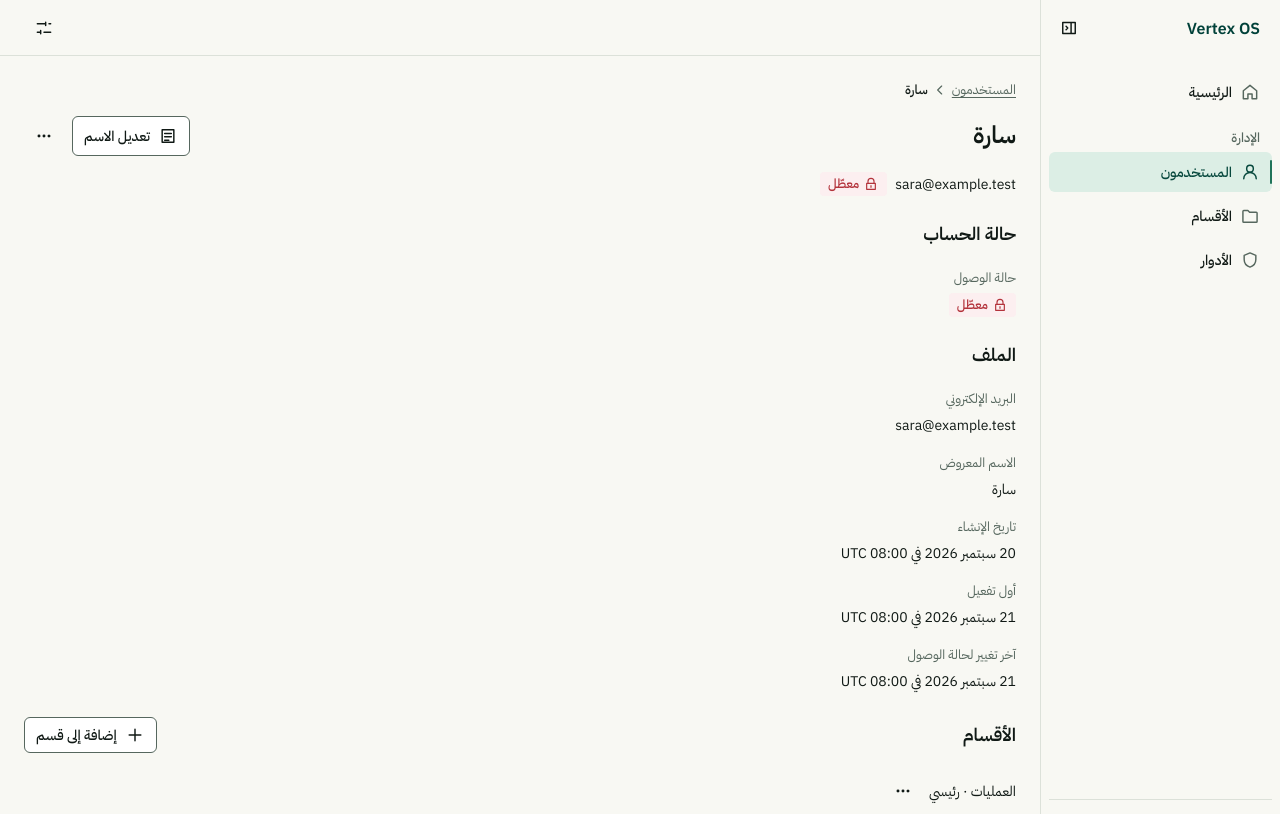
the user detail › states the reactivation target the backend derived (INVITED)
Click the button named "إجراءات المستخدم" at (44, 136), box [24,116,64,156]
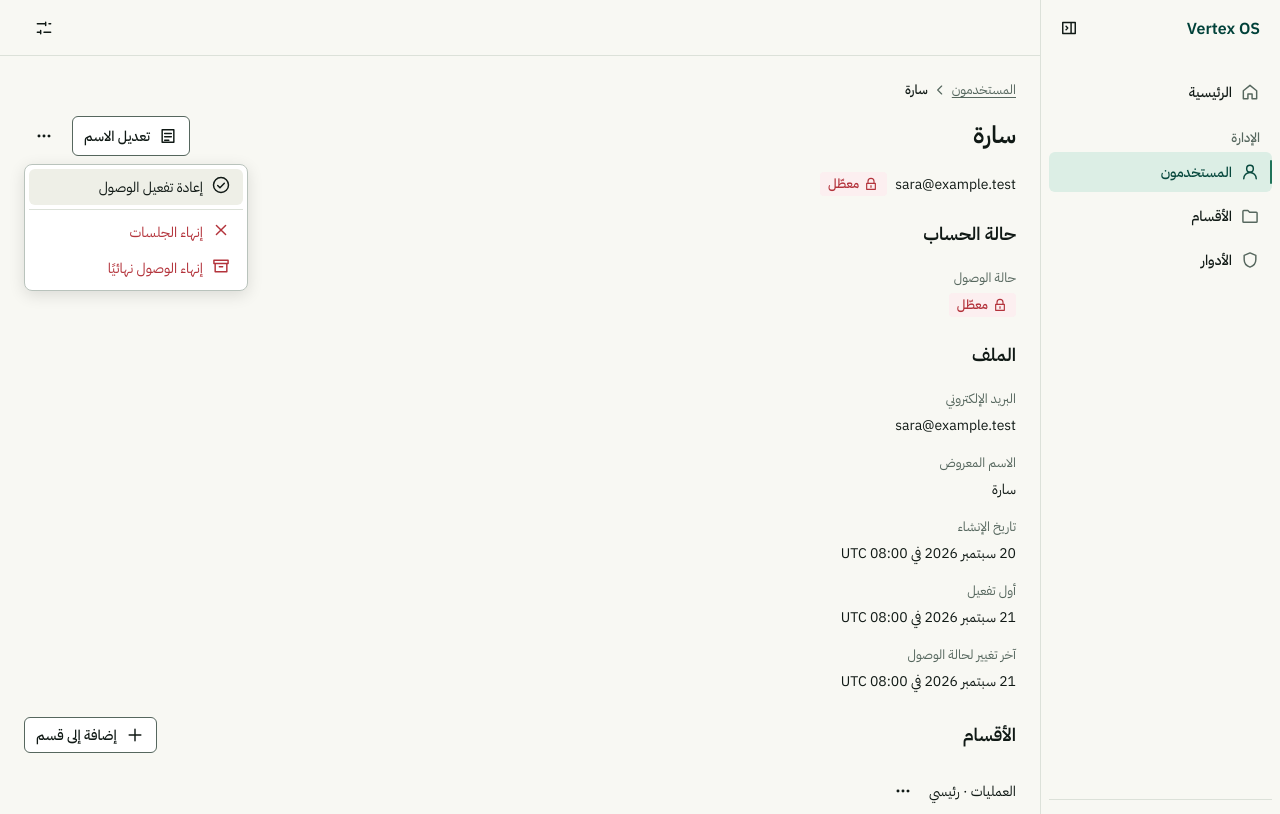
Click the menu item "إعادة تفعيل الوصول" at (136, 187), box [29,169,243,205]
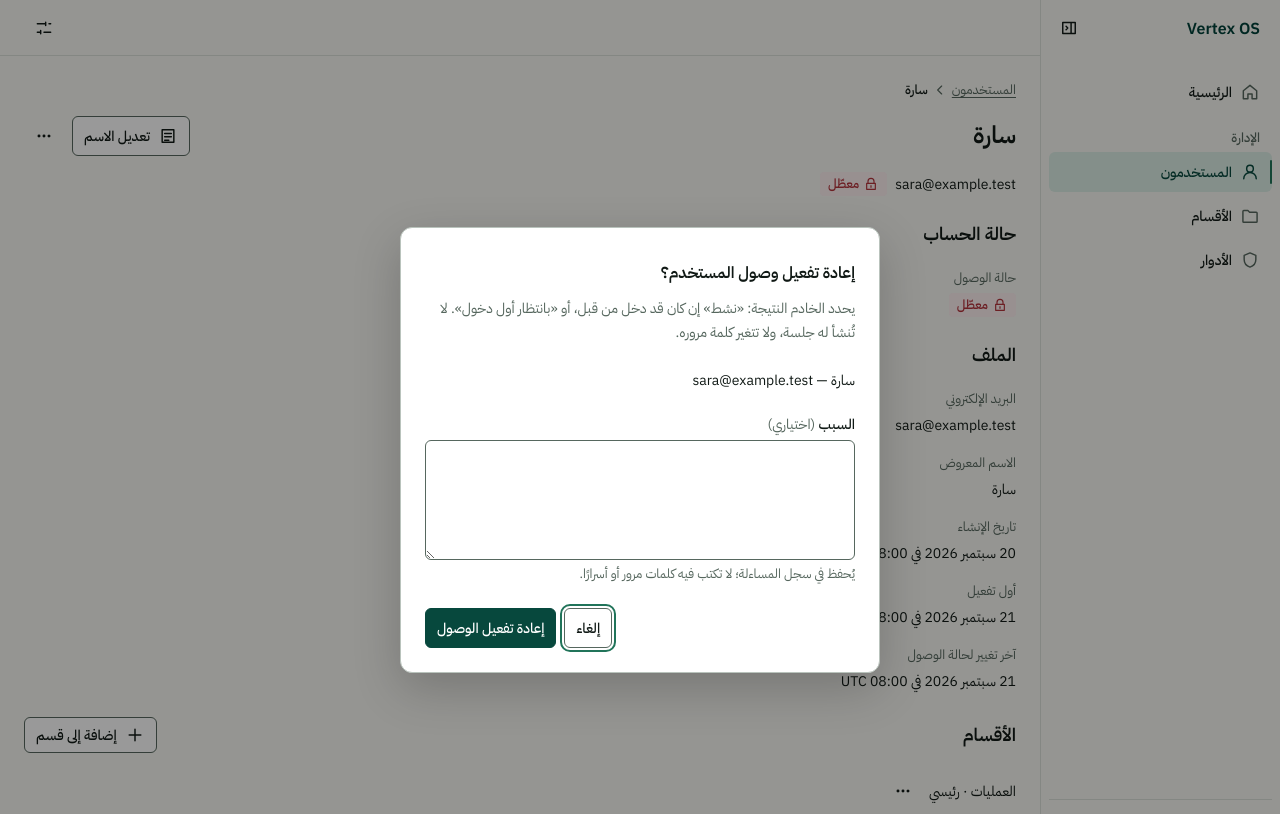
Expected: the dialog shows "يحدد الخادم النتيجة", [440,299,855,341]
Click the button "إعادة تفعيل الوصول" at (491, 628), box [425,608,556,648]
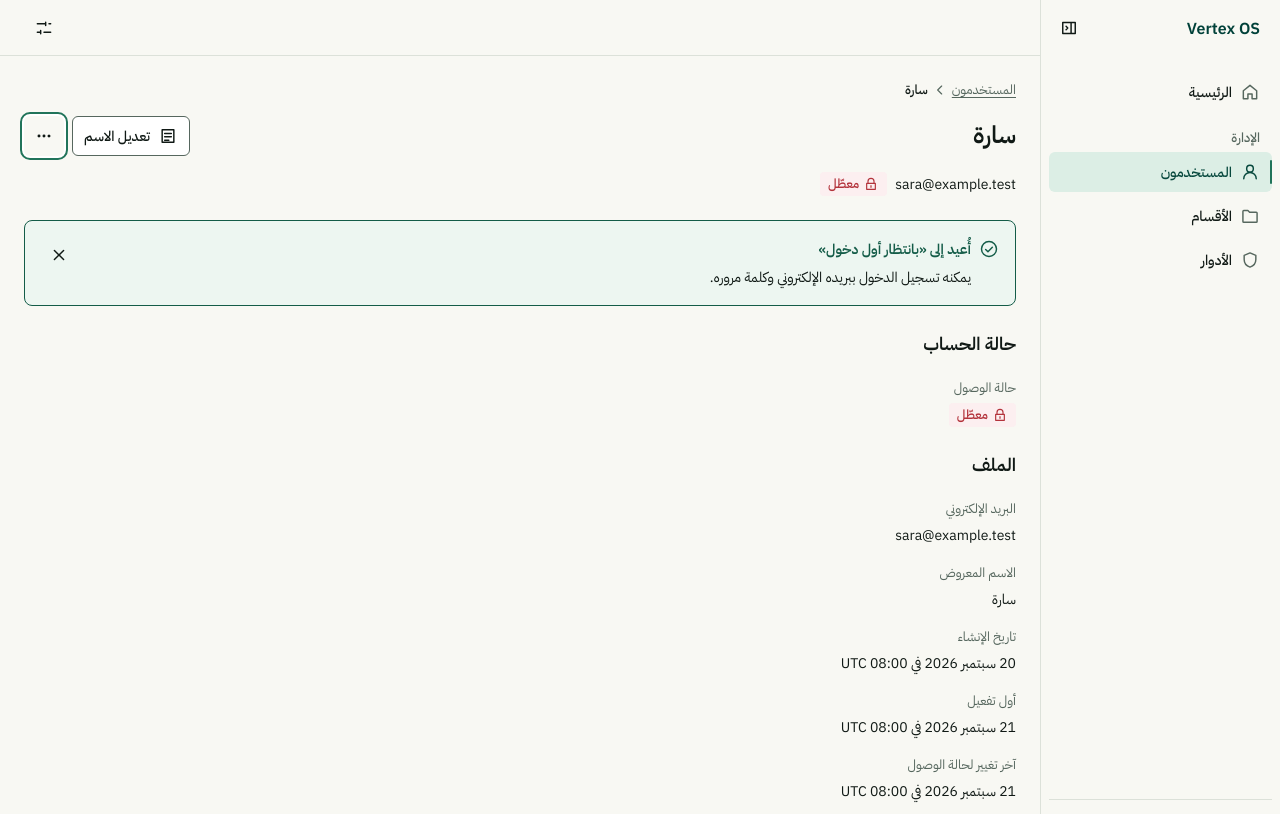
Expected: the text "أُعيد إلى «بانتظار أول دخول»" is shown, [818,240,971,258]
